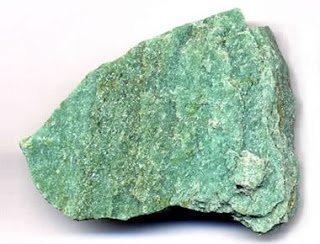obstacle: (20, 9, 297, 232)
